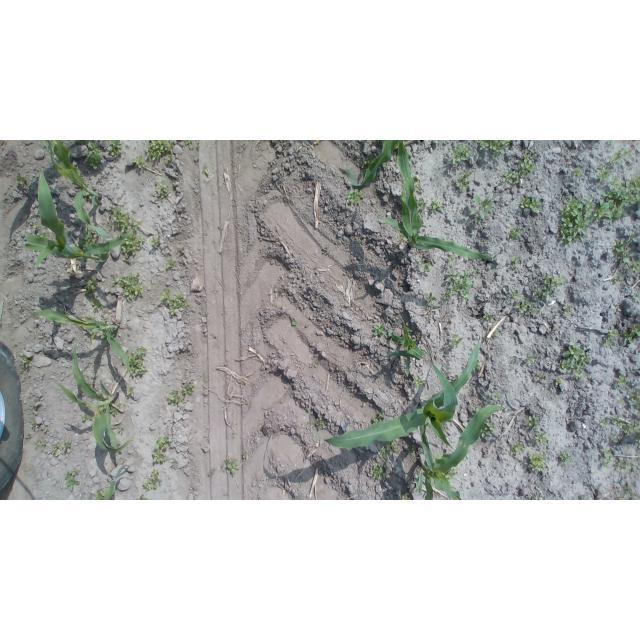Maize: (308, 333, 480, 449), (378, 141, 495, 263), (24, 172, 132, 268), (53, 342, 136, 454), (415, 404, 506, 500), (32, 310, 133, 375), (43, 141, 109, 239), (340, 140, 400, 188), (389, 318, 426, 377), (96, 466, 134, 500)
Weeds: (557, 176, 640, 244), (104, 206, 144, 259), (611, 238, 639, 285), (502, 149, 536, 185), (600, 414, 639, 442), (596, 148, 630, 180), (559, 345, 589, 380), (417, 458, 456, 483), (145, 140, 192, 160), (442, 270, 472, 301), (532, 275, 566, 302), (603, 324, 639, 347), (125, 346, 150, 378), (469, 194, 496, 222), (112, 276, 140, 301), (160, 290, 185, 315), (152, 437, 170, 465), (83, 143, 101, 168), (477, 141, 511, 154), (618, 392, 640, 412), (142, 470, 162, 491), (33, 441, 72, 451), (452, 145, 473, 163), (367, 465, 389, 482), (377, 442, 398, 459), (456, 171, 473, 192), (154, 181, 172, 200), (81, 225, 98, 243), (522, 198, 541, 214), (515, 299, 533, 315), (64, 472, 78, 492), (528, 454, 545, 470), (611, 492, 640, 501), (481, 420, 495, 438), (107, 142, 121, 160), (373, 321, 389, 336), (347, 189, 364, 203), (447, 336, 465, 349), (15, 174, 28, 192), (166, 392, 183, 405), (86, 279, 98, 297), (427, 198, 441, 212), (613, 373, 627, 387), (131, 156, 146, 169), (422, 292, 436, 305), (226, 460, 239, 474), (180, 382, 194, 395), (415, 198, 426, 214), (372, 412, 385, 425), (413, 375, 427, 387), (601, 452, 612, 467), (529, 415, 539, 431), (536, 430, 547, 444), (417, 263, 431, 274), (616, 459, 630, 469), (150, 236, 160, 250), (89, 301, 100, 313), (511, 256, 521, 269), (316, 421, 327, 432), (559, 455, 570, 466), (512, 289, 523, 300), (510, 445, 522, 455), (399, 231, 407, 245), (411, 180, 421, 191), (21, 357, 32, 367), (166, 259, 176, 270), (510, 229, 521, 239), (127, 389, 136, 398), (448, 256, 457, 265), (563, 308, 573, 315), (138, 494, 149, 500), (171, 460, 178, 469), (574, 168, 581, 175), (527, 356, 535, 362), (30, 421, 35, 430), (42, 428, 48, 435), (25, 434, 31, 441), (204, 168, 210, 175), (606, 140, 614, 144), (485, 312, 491, 317), (242, 456, 247, 461), (583, 496, 589, 499)
